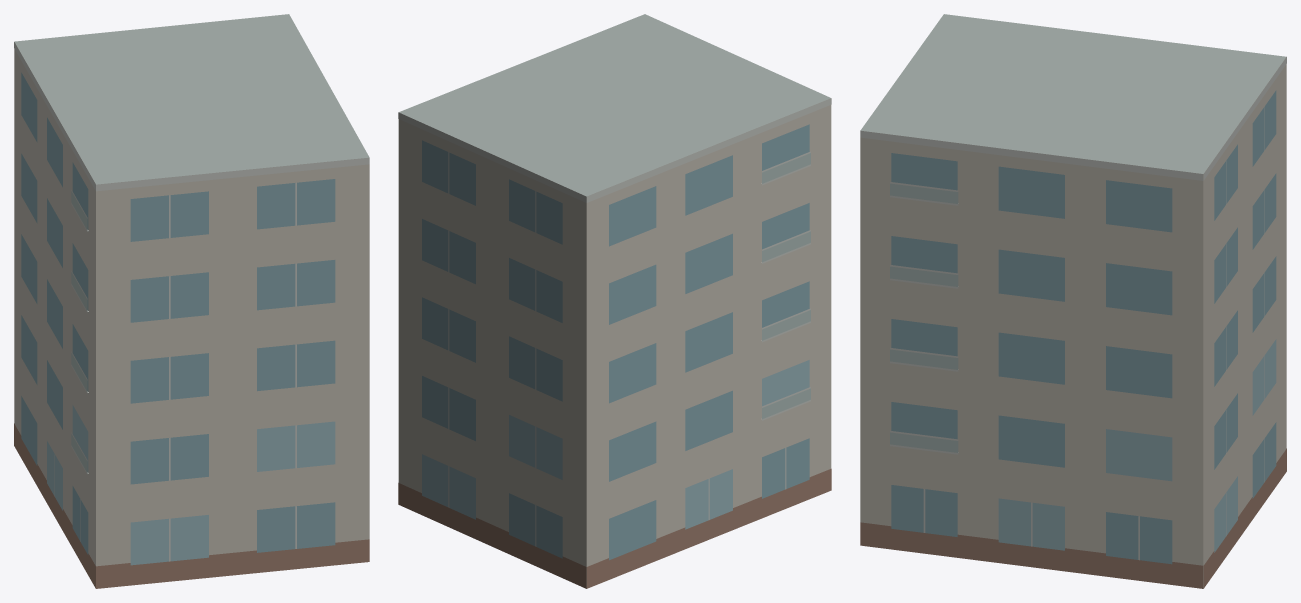
The model's file is survey-upis-32868343.glb.
The picture shows the model from 3 angles, left to right: view 1: azimuth 30°, elevation 25°; view 2: azimuth 150°, elevation 25°; view 3: azimuth 270°, elevation 25°; orthographic projection. The views are drawn at different scales.
Visible parts, largest first — view 1: survey-upis-32868343.tmp; view 2: survey-upis-32868343.tmp; view 3: survey-upis-32868343.tmp.
Boxes of the visible parts, x1=… form: survey-upis-32868343.tmp: x1=14, y1=14, x2=369, y2=588; survey-upis-32868343.tmp: x1=398, y1=14, x2=831, y2=588; survey-upis-32868343.tmp: x1=860, y1=14, x2=1286, y2=588.
Bounding box in the file's own units: 12.09 × 14.6 × 13.61.
